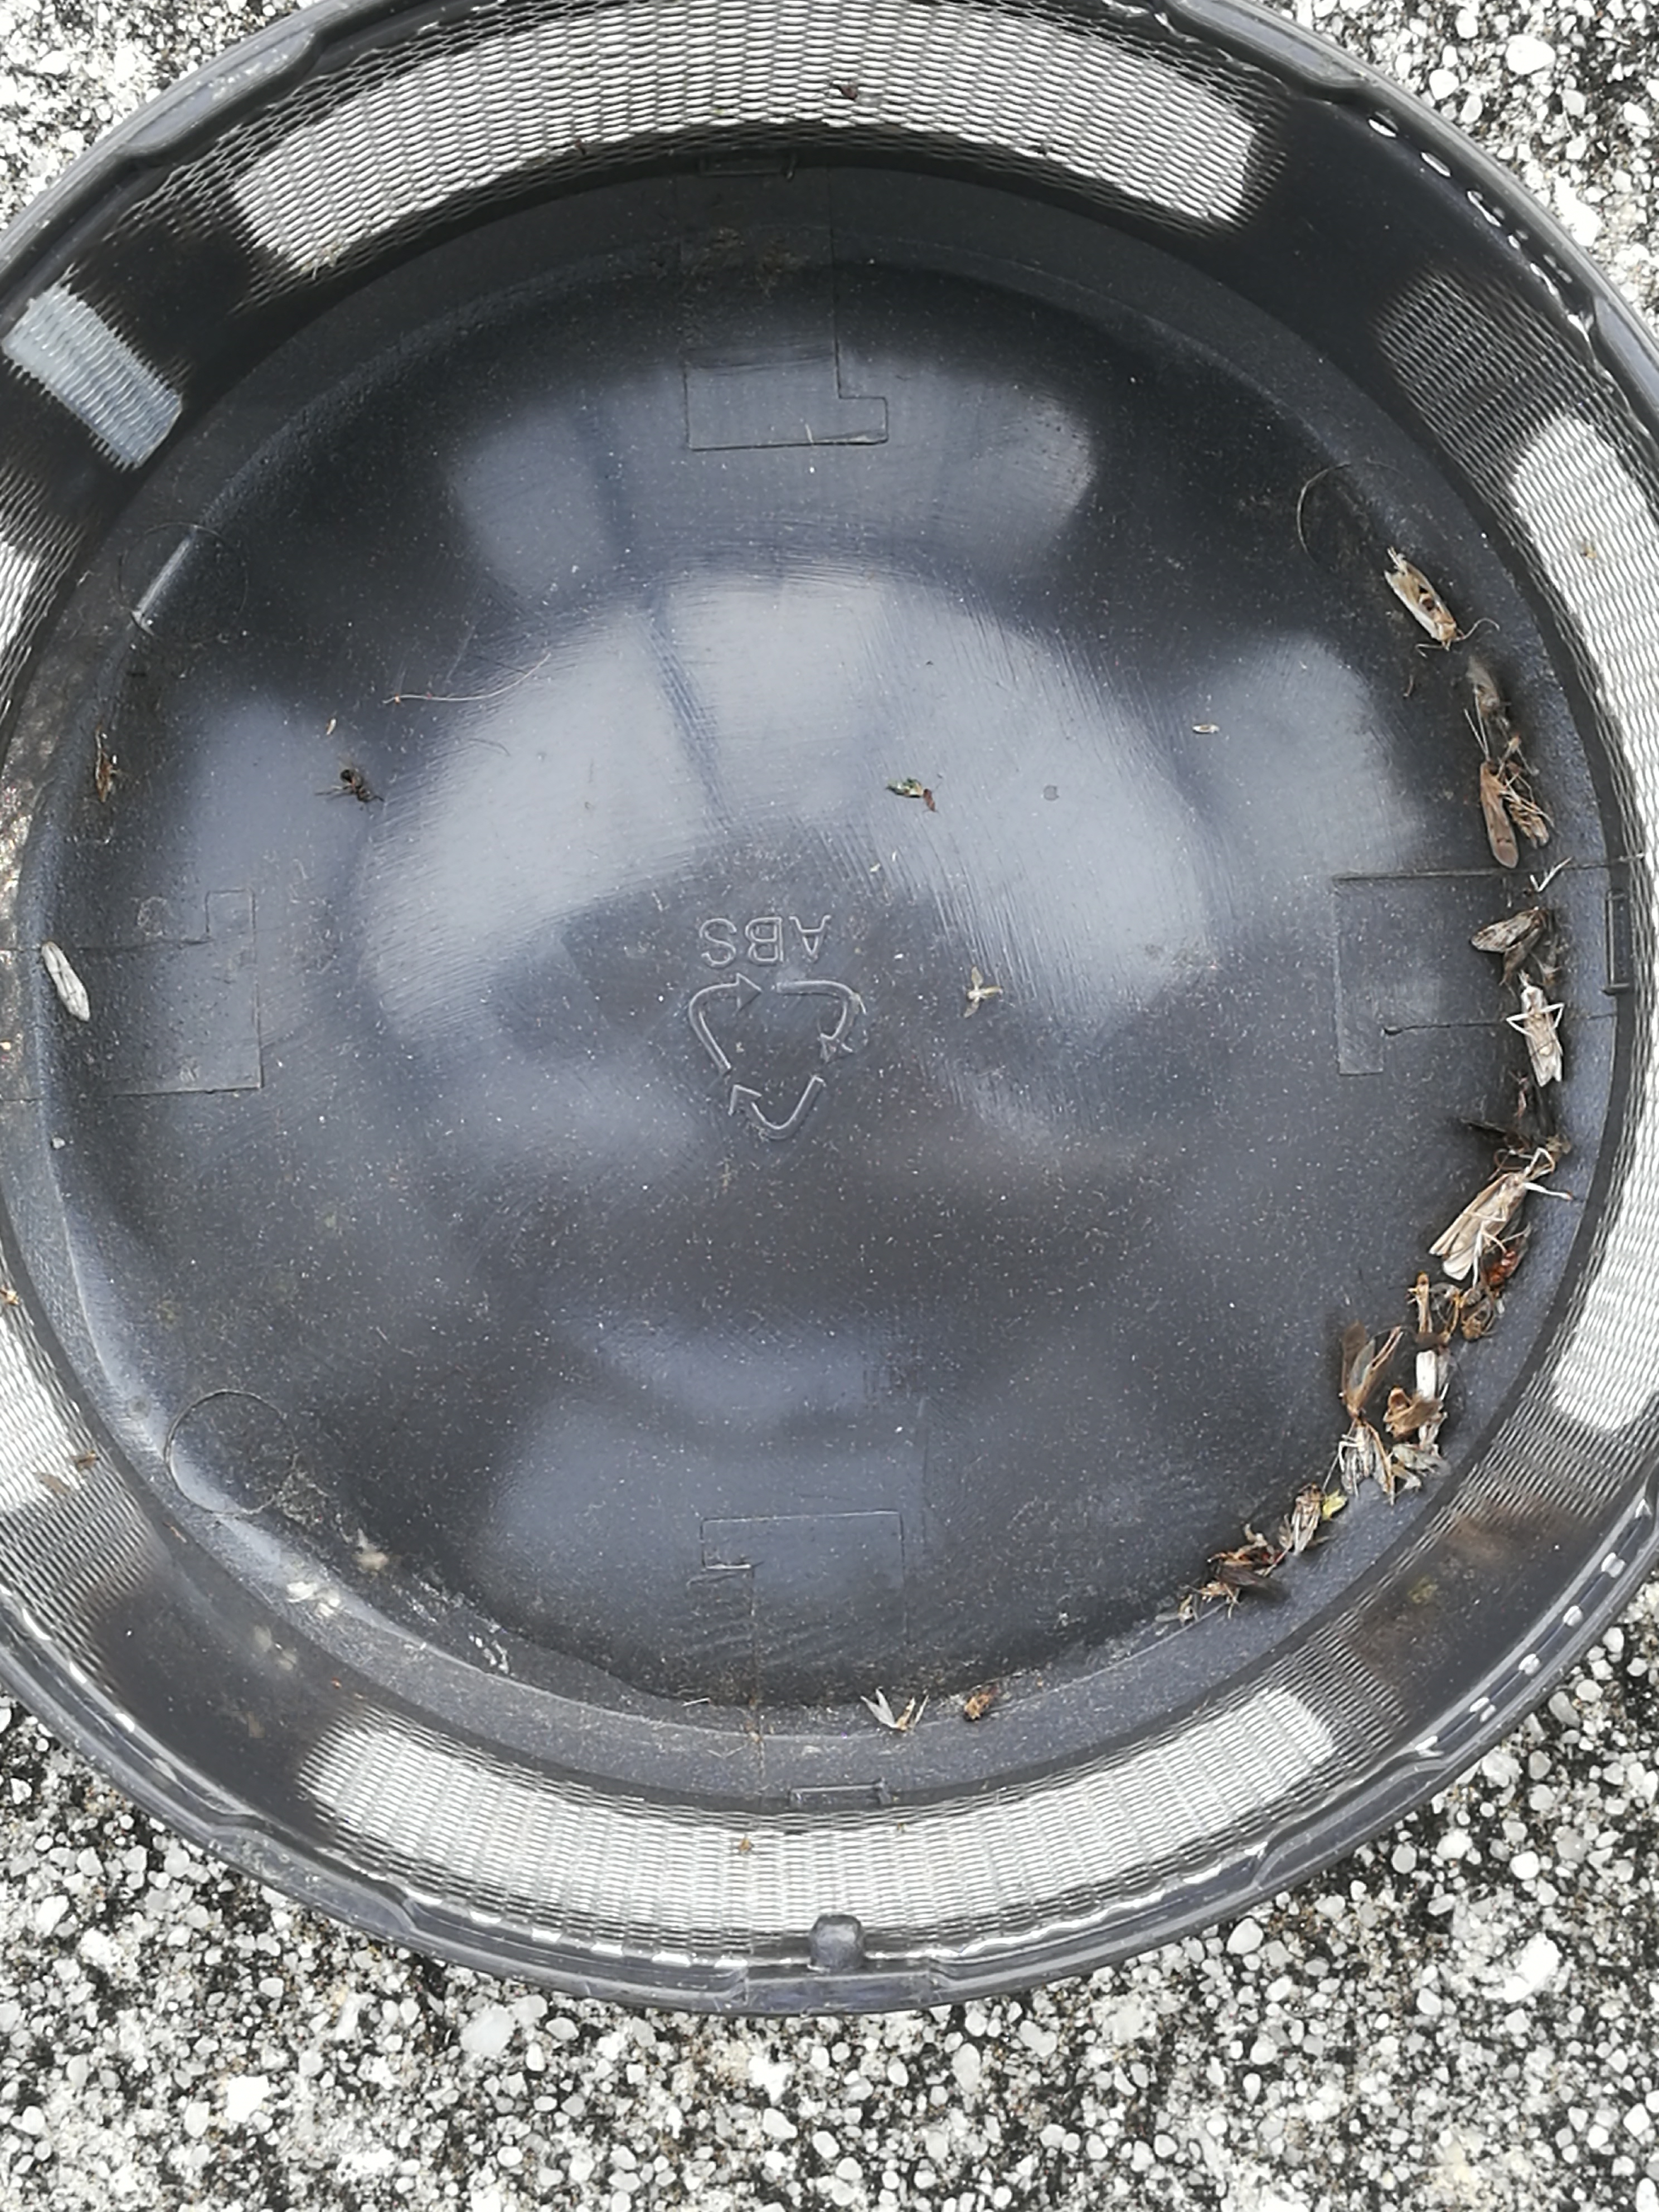mosquito: (1429, 1172, 1527, 1280), (1382, 554, 1457, 646), (1523, 988, 1563, 1087), (1481, 763, 1516, 869)
moth: (1474, 909, 1542, 974), (1345, 1421, 1394, 1505), (1342, 1324, 1373, 1418), (1295, 1479, 1321, 1547)
